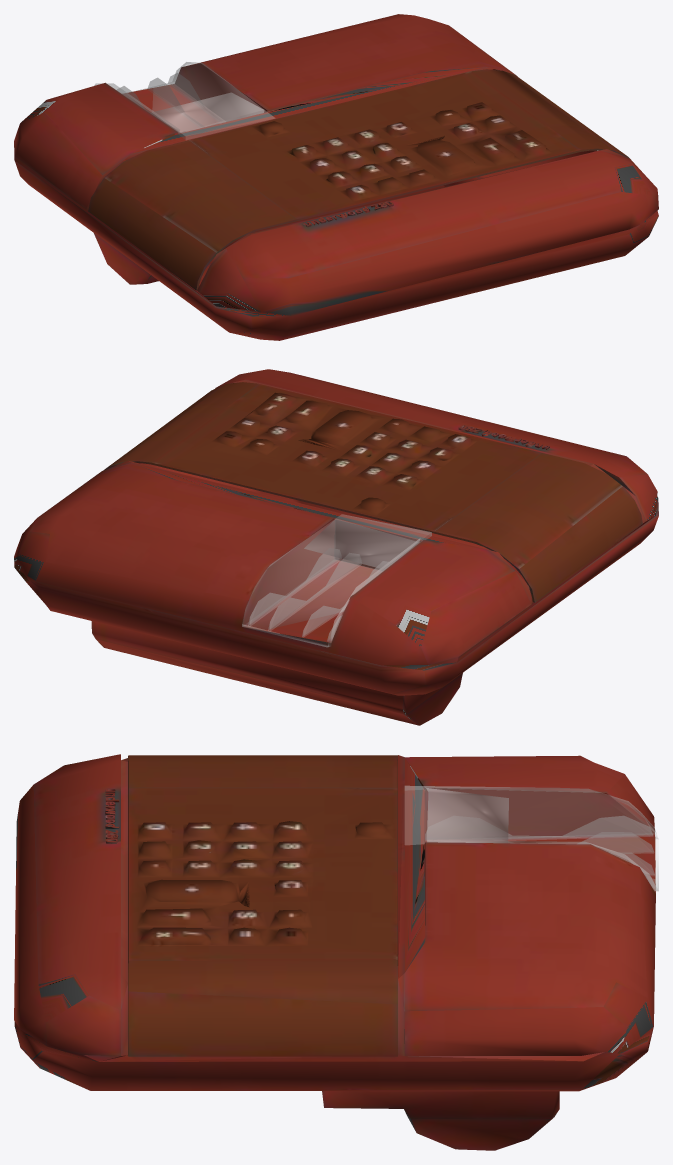
File: olivetti-user-v41-facets-v1.glb
3 renders of one model, top to bottom at view 1: azimuth 30°, elevation 25°; view 2: azimuth 150°, elevation 25°; view 3: azimuth 270°, elevation 25°, orthographic. The views are drawn at different scales.
Visible parts, largest first — view 1: olivetti-user-v41:0, olivetti-user-v41:1, olivetti-user-v41:3; view 2: olivetti-user-v41:0, olivetti-user-v41:1, olivetti-user-v41:3; view 3: olivetti-user-v41:0, olivetti-user-v41:1, olivetti-user-v41:3.
Boxes of the visible parts, <box> form: olivetti-user-v41:0: <box>14,14,658,340</box>; olivetti-user-v41:1: <box>88,69,629,290</box>; olivetti-user-v41:3: <box>94,62,274,139</box>; olivetti-user-v41:0: <box>14,369,658,725</box>; olivetti-user-v41:1: <box>103,382,642,602</box>; olivetti-user-v41:3: <box>242,514,431,647</box>; olivetti-user-v41:0: <box>14,754,655,1150</box>; olivetti-user-v41:1: <box>128,755,397,1056</box>; olivetti-user-v41:3: <box>404,785,658,891</box>.
Bounding box in the file's own units: 0.2991 × 0.1019 × 0.3001.
4 materials, 3 textured.
